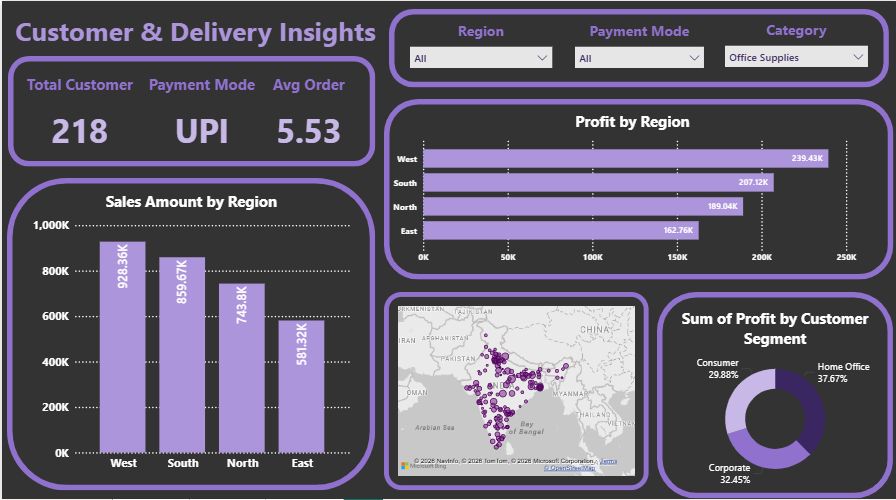

The page's visual inventory and layout, read from the dashboard file:
{"tool":"powerbi","page":{"name":"Page 3","canvas":[1280,720],"ordinal":2},"visuals":[{"type":"textbox","box":[0,11.3,552.8,83.6],"z":0},{"type":"shape","box":[552.8,11.3,714.3,112],"z":1000},{"type":"slicer","title":"Region","fields":{"Values":["Superstore_Management_System.Region"]},"box":[572.6,28.3,222.5,182.8],"z":2000},{"type":"slicer","title":"Payment Mode","fields":{"Values":["Superstore_Management_System.Payment Mode"]},"box":[807.9,28.3,204.1,153.1],"z":3000},{"type":"slicer","title":"Category","fields":{"Values":["Superstore_Management_System.Category"]},"box":[1023.3,26.9,223.9,93.5],"z":4000},{"type":"shape","box":[8.7,78.3,524.6,158],"z":5000},{"type":"cardVisual","title":"Total Customer","fields":{"Data":["Count(Superstore_Management_System.Customer ID)"]},"box":[23.2,104.3,176.8,108.7],"z":6000},{"type":"cardVisual","title":"Payment Mode","fields":{"Data":["Superstore_Management_System.First Payment Mode max per Payment Mode"]},"box":[200,104.3,171,121.7],"z":7000},{"type":"cardVisual","title":"Avg Order","fields":{"Data":["Avg(Superstore_Management_System.Quantity)"]},"box":[352.2,104.3,171,121.7],"z":8000},{"type":"columnChart","title":"Sales Amount by Region","fields":{"Category":["Superstore_Management_System.Region"],"Y":["Sum(Superstore_Management_System.Sales Amount)"]},"box":[39.1,271,463.8,408.7],"z":9000},{"type":"barChart","title":"Profit by Region","fields":{"Category":["Superstore_Management_System.Region"],"Y":["Sum(Superstore_Management_System.Profit)"]},"box":[552.2,156.5,695.7,227.5],"z":10000},{"type":"shape","box":[546.4,140.6,727.5,258],"z":11000},{"type":"donutChart","fields":{"Category":["Superstore_Management_System.Customer Segment"],"Y":["Sum(Superstore_Management_System.Profit)"]},"box":[959.5,438,289.1,260.8],"z":12000},{"type":"shape","box":[7.2,252.2,526.1,446.4],"z":13000},{"type":"shape","box":[935.4,415.3,337.3,294.8],"z":14000},{"type":"map","fields":{"Size":["Sum(Superstore_Management_System.Sales Amount)"],"Category":["Superstore_Management_System.City"]},"box":[545.7,415.3,378.4,283.5],"z":15000}]}

Visuals, with their boxes in screenshot pixels (x1, y1, x2, y2), scaled from the page's 1280x720 canvas onto the 896x500 screenshot:
textbox: Rect(0, 8, 387, 66)
shape: Rect(387, 8, 887, 86)
"Region" slicer: Rect(401, 20, 557, 147)
"Payment Mode" slicer: Rect(566, 20, 708, 126)
"Category" slicer: Rect(716, 19, 873, 84)
shape: Rect(6, 54, 373, 164)
"Total Customer" cardVisual: Rect(16, 72, 140, 148)
"Payment Mode" cardVisual: Rect(140, 72, 260, 157)
"Avg Order" cardVisual: Rect(247, 72, 366, 157)
"Sales Amount by Region" columnChart: Rect(27, 188, 352, 472)
"Profit by Region" barChart: Rect(387, 109, 874, 267)
shape: Rect(382, 98, 892, 277)
donutChart - Superstore_Management_System.Customer Segment x Sum(Superstore_Management_System.Profit): Rect(672, 304, 874, 485)
shape: Rect(5, 175, 373, 485)
shape: Rect(655, 288, 891, 493)
map - Sum(Superstore_Management_System.Sales Amount) x Superstore_Management_System.City: Rect(382, 288, 647, 485)
